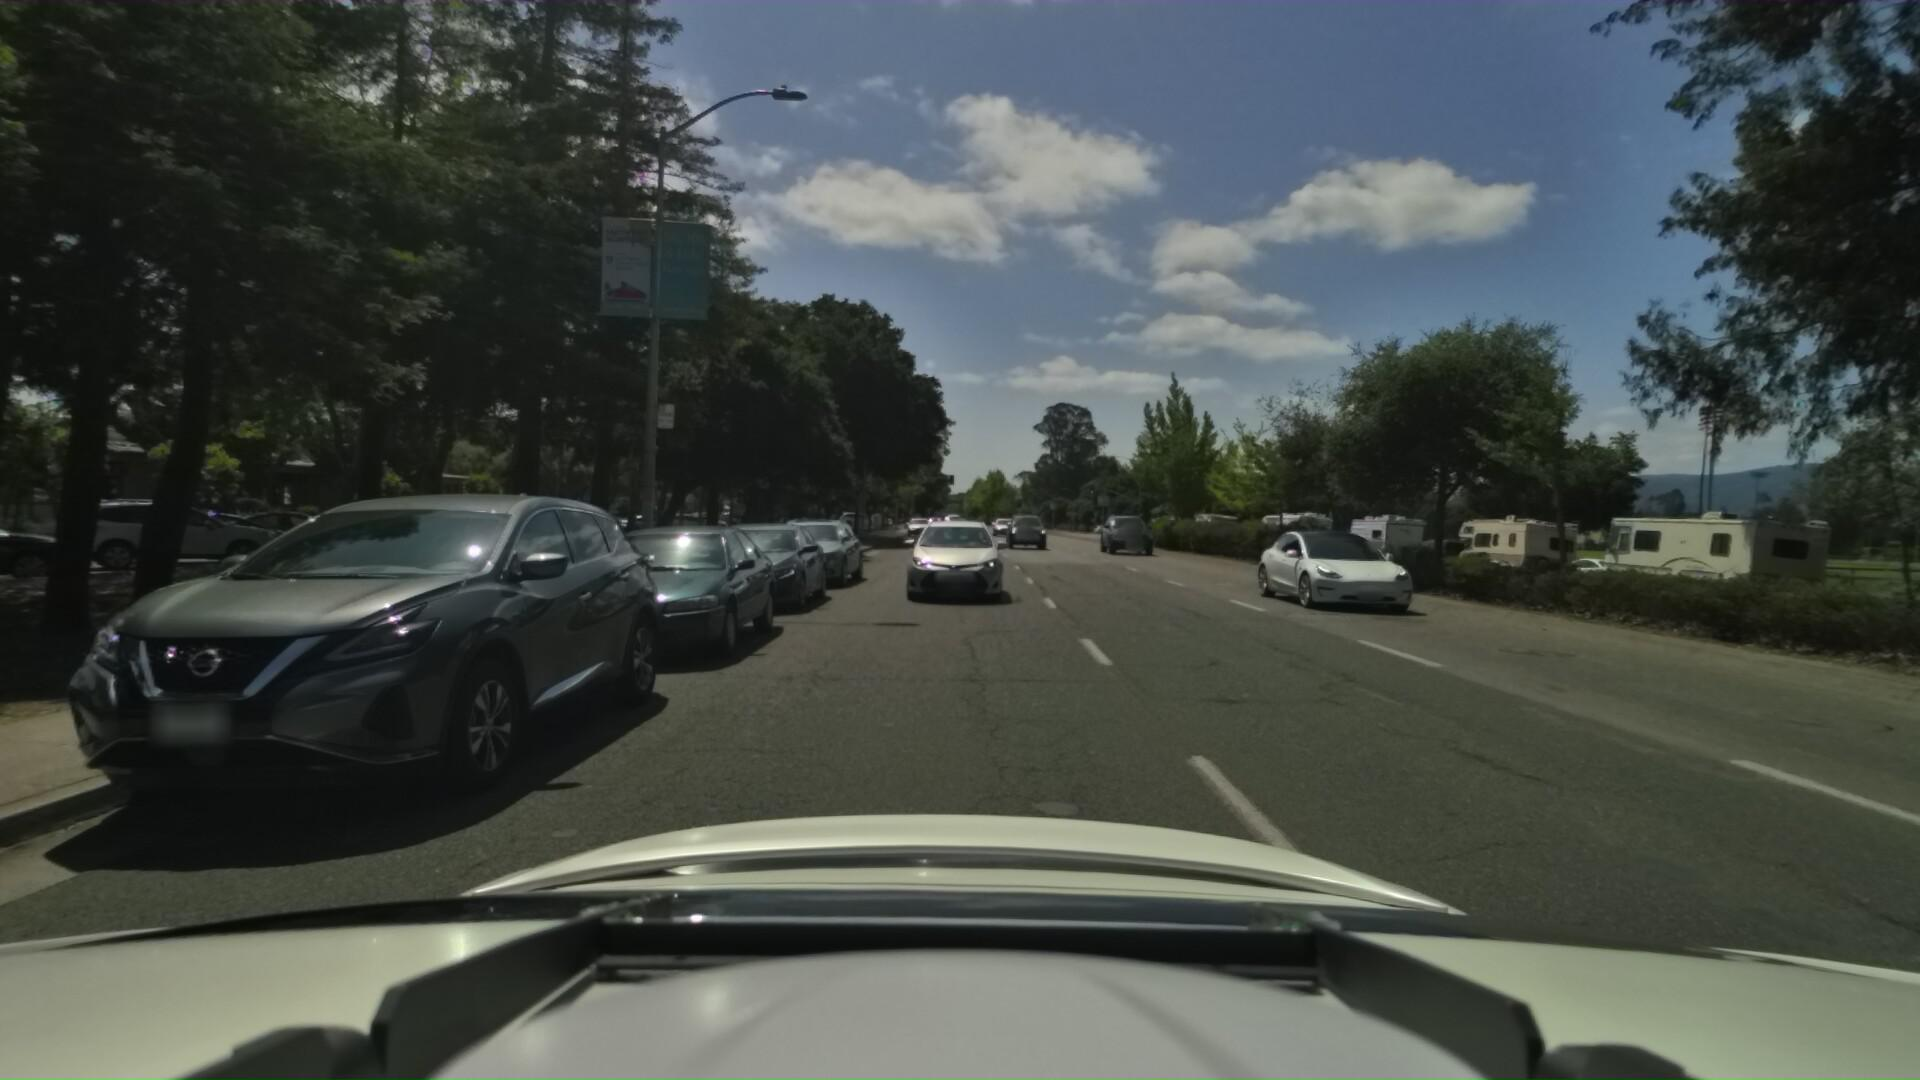car: (83, 473, 702, 841), (545, 514, 802, 674), (684, 512, 837, 617), (1226, 516, 1394, 611), (1778, 562, 1920, 636), (898, 513, 1007, 608), (760, 512, 868, 589), (1528, 547, 1639, 589), (1395, 531, 1473, 571), (1093, 509, 1151, 553), (1004, 509, 1044, 545), (989, 512, 1015, 535), (909, 512, 932, 533)
other_vehicle: (1577, 497, 1825, 620), (1439, 504, 1575, 585), (1332, 508, 1425, 564), (1250, 502, 1329, 553)
